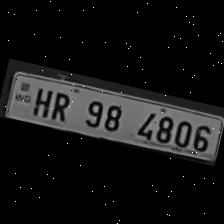0: (170, 116, 195, 148)
4: (130, 104, 160, 140)
6: (188, 119, 214, 152)
8: (98, 99, 126, 134), (153, 110, 178, 144)
9: (78, 92, 108, 129)
H: (29, 82, 55, 118)
R: (45, 86, 76, 122)
